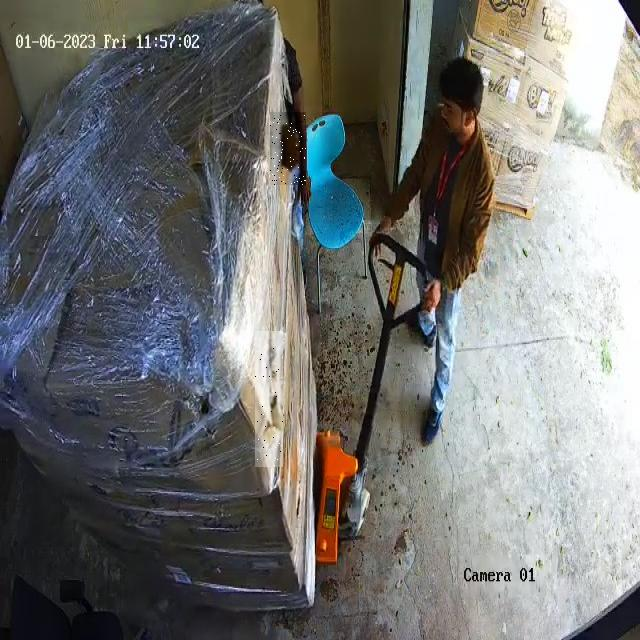leakage: (255, 331, 283, 467), (270, 112, 306, 185)
